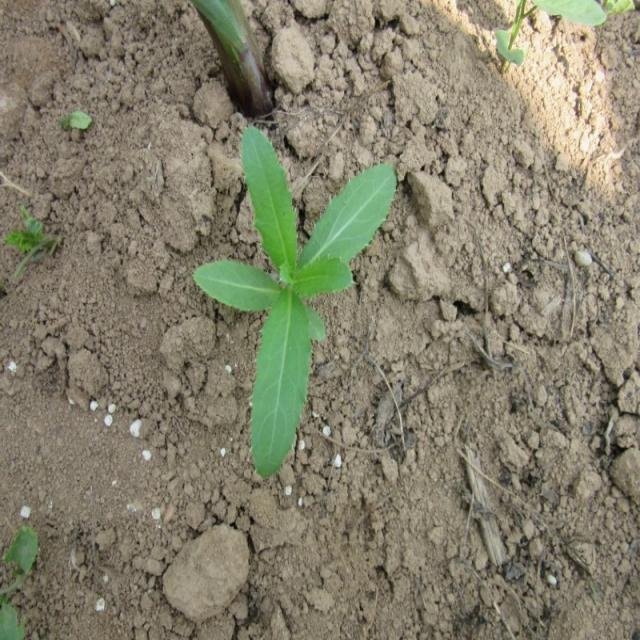cs: (188, 119, 403, 485)
